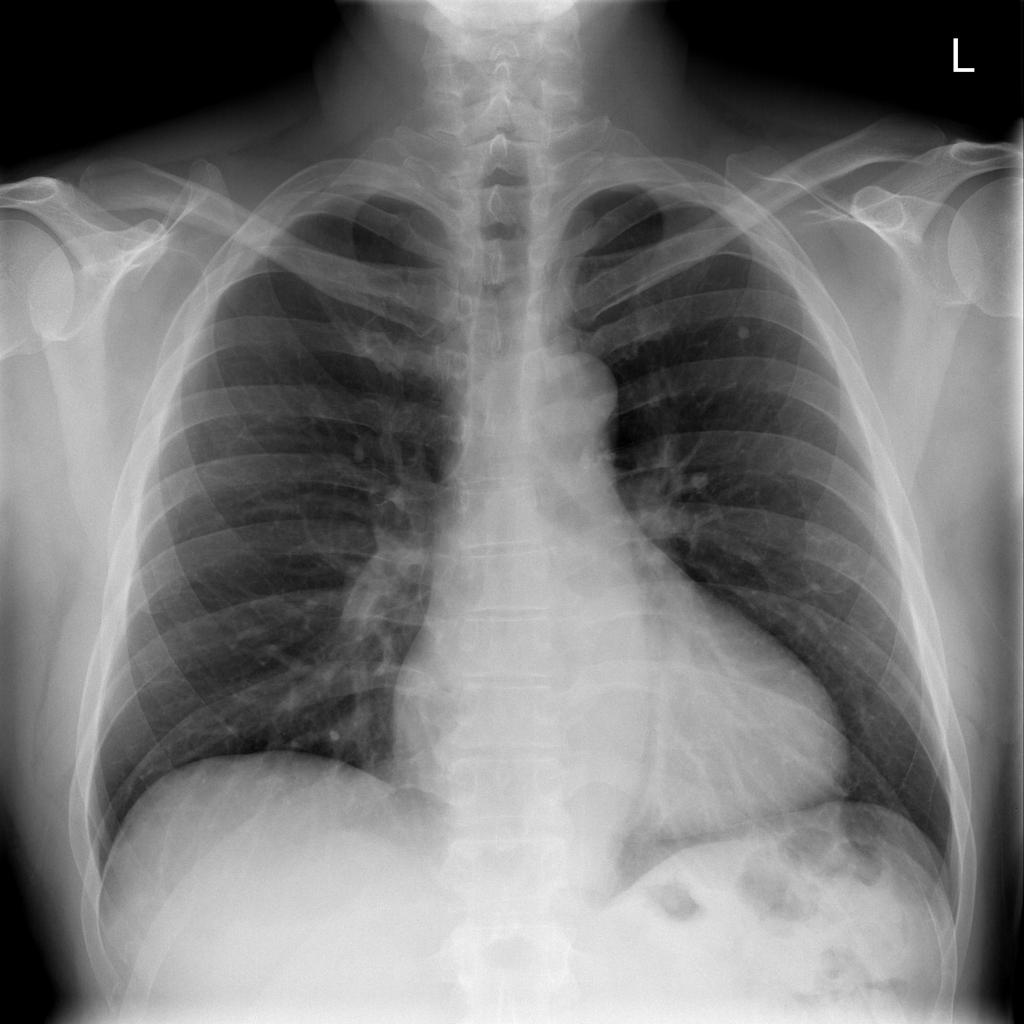nodule: (723, 308, 771, 361)
